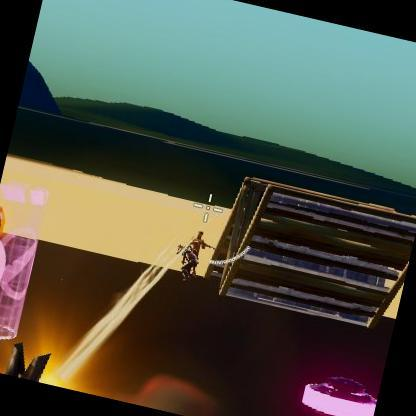person: (166, 243, 200, 279), (182, 228, 212, 258)
